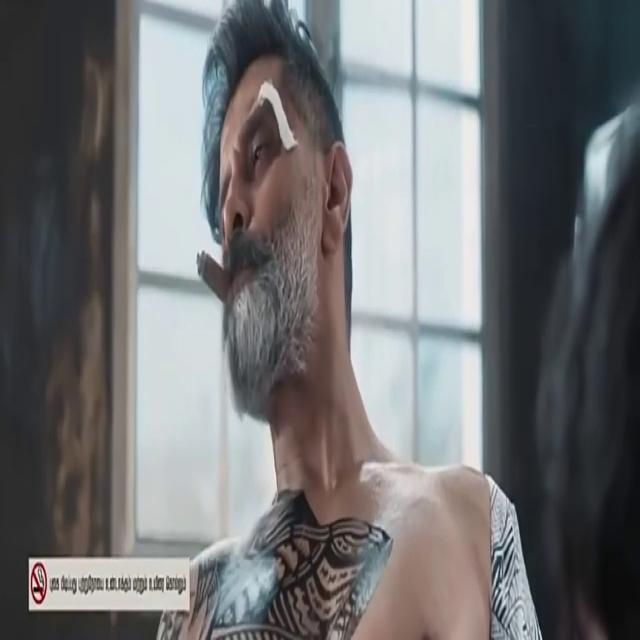smoking: (154, 125, 358, 381)
